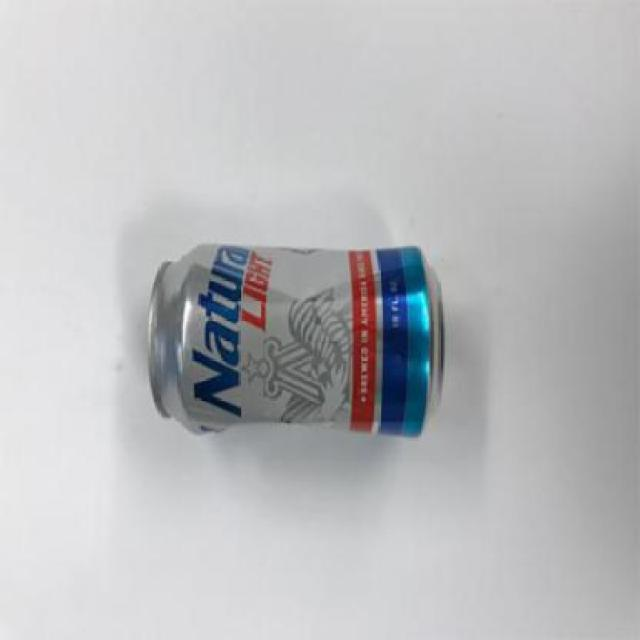Metal: (147, 242, 446, 440)
